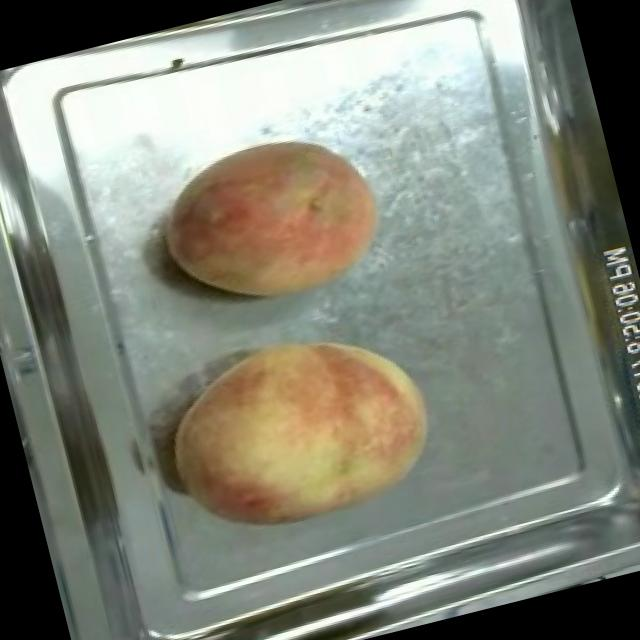Fruit: (144, 299, 452, 558), (140, 110, 402, 332)
